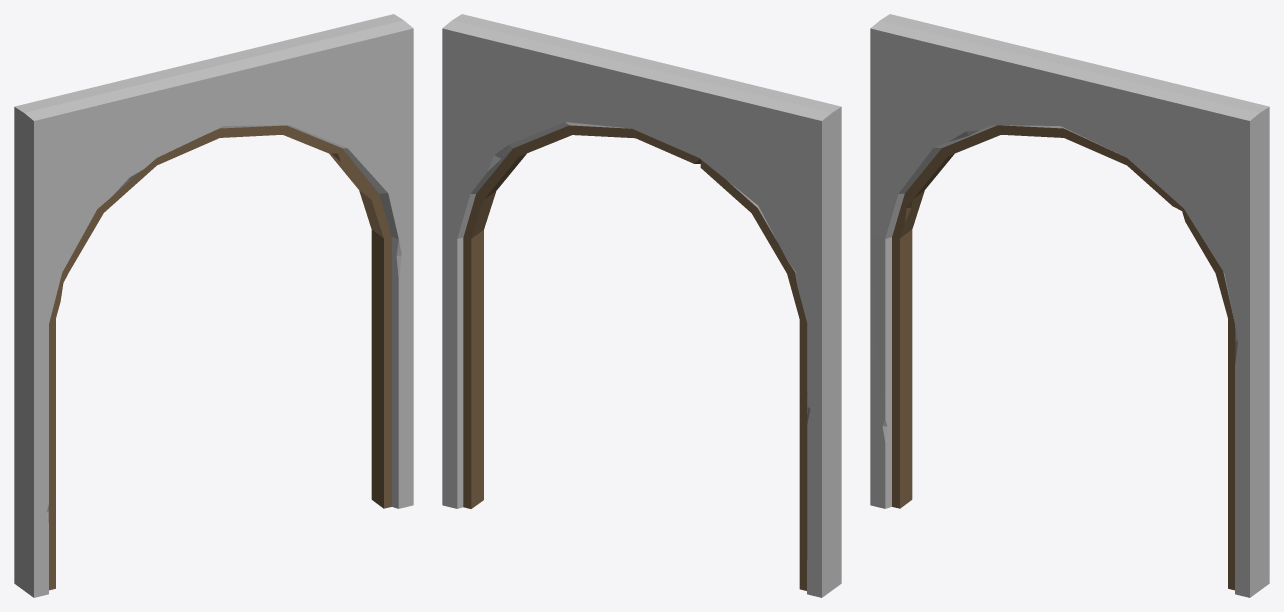
File: SM_Bld_Wall_Manor_Arch_01.fbx
3 renders of one model, left to right at view 1: azimuth 30°, elevation 25°; view 2: azimuth 150°, elevation 25°; view 3: azimuth 330°, elevation 25°, orthographic.
Parts seen in each view (by area): view 1: SM_Bld_Wall_Manor_Arch_01; view 2: SM_Bld_Wall_Manor_Arch_01; view 3: SM_Bld_Wall_Manor_Arch_01.
Part boxes in pixels (bbox=[...]): SM_Bld_Wall_Manor_Arch_01: bbox=[14, 14, 413, 597]; SM_Bld_Wall_Manor_Arch_01: bbox=[442, 14, 841, 597]; SM_Bld_Wall_Manor_Arch_01: bbox=[870, 14, 1269, 597].
Size of the model in its own units: 250 by 301 by 22.5.
